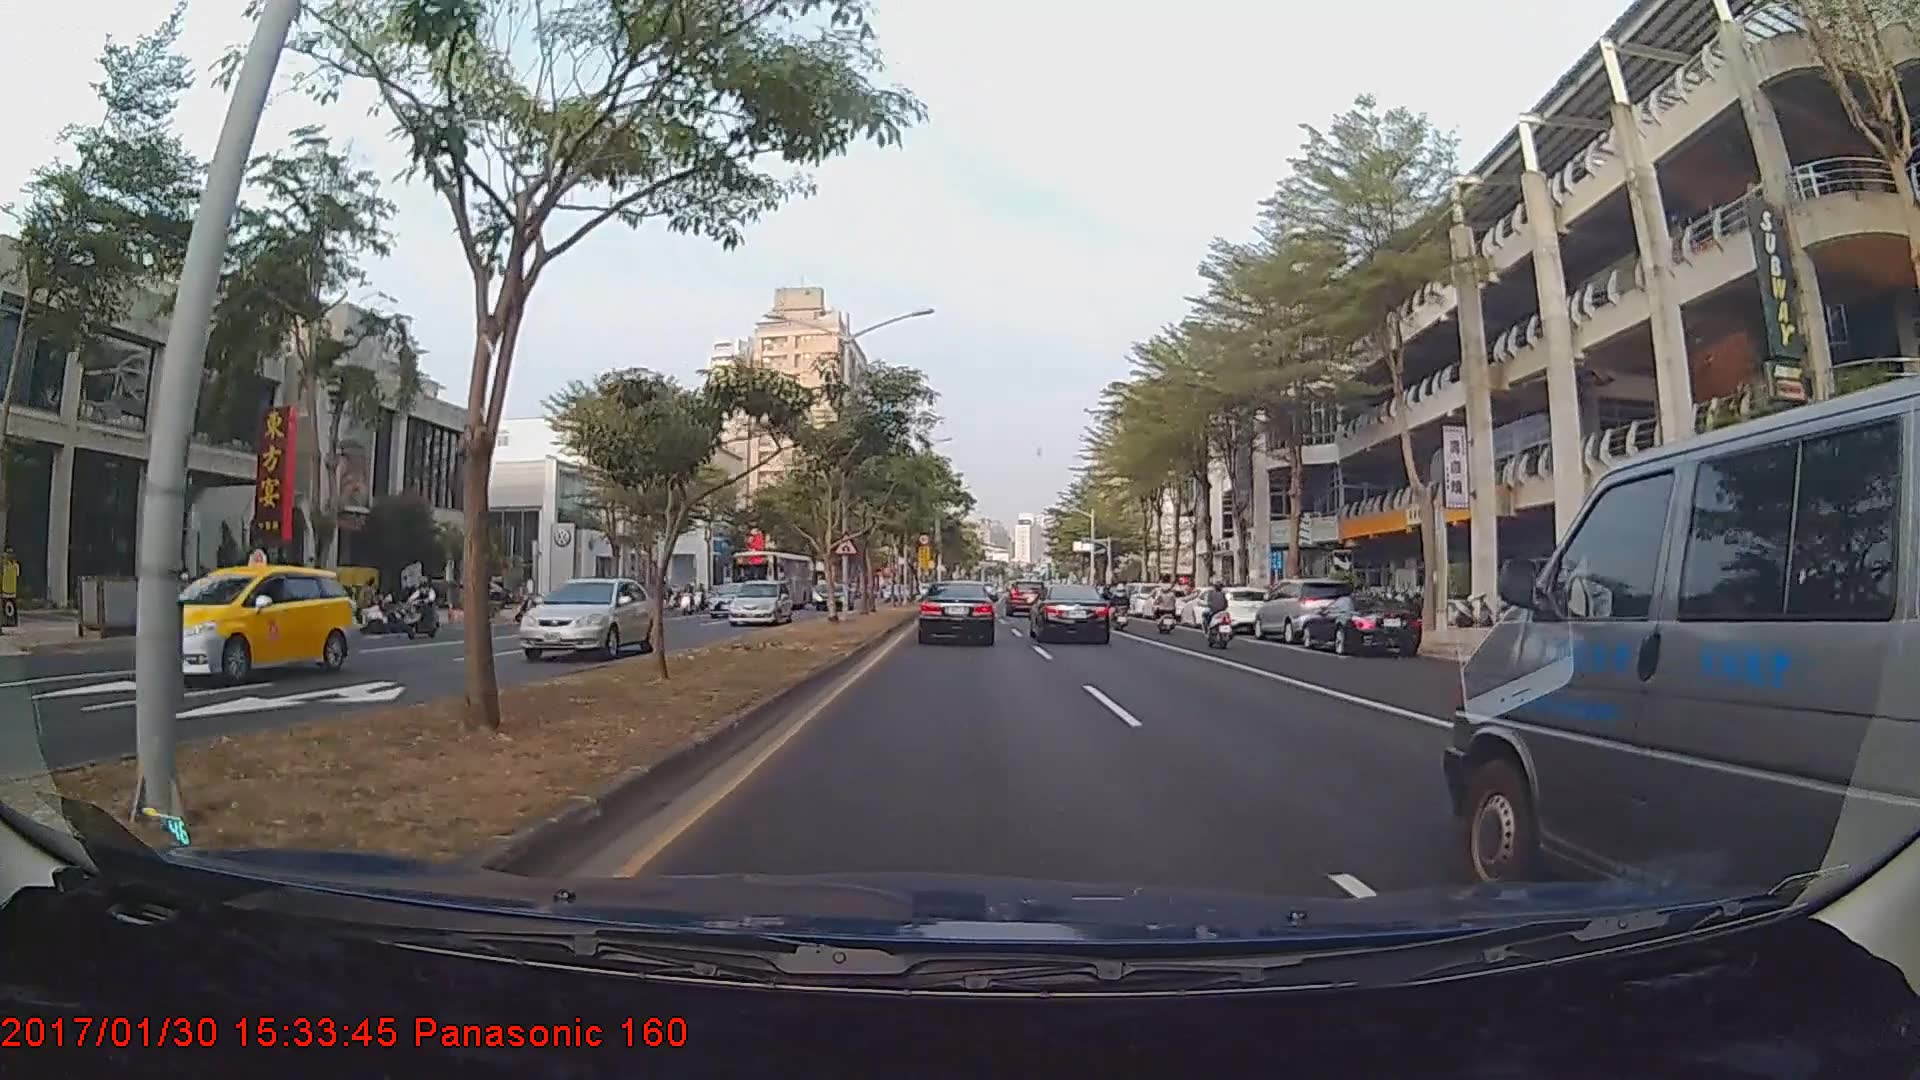rider: (402, 576, 447, 647), (1199, 583, 1240, 657), (1148, 583, 1182, 641), (1109, 585, 1132, 635)
vehicle: (1455, 408, 1912, 893), (130, 559, 358, 691), (521, 577, 660, 658), (1300, 597, 1423, 655), (1257, 581, 1360, 650), (915, 579, 998, 647), (729, 549, 815, 615), (1031, 582, 1112, 645), (724, 580, 795, 627), (1204, 586, 1271, 634), (1004, 580, 1050, 618), (704, 584, 755, 619), (812, 580, 856, 610)
